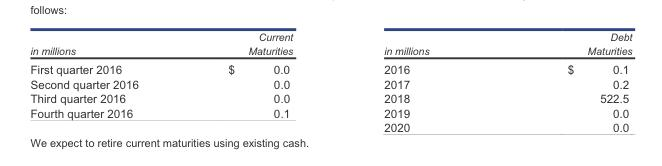table: (29, 29, 631, 135)
table column: (337, 29, 497, 135), (182, 29, 337, 135), (29, 29, 182, 135), (497, 29, 631, 135)
table column header: (29, 29, 631, 59)
table row: (29, 29, 631, 59), (29, 59, 631, 76), (29, 76, 631, 91), (29, 105, 631, 120), (29, 120, 631, 135), (29, 91, 631, 105)
